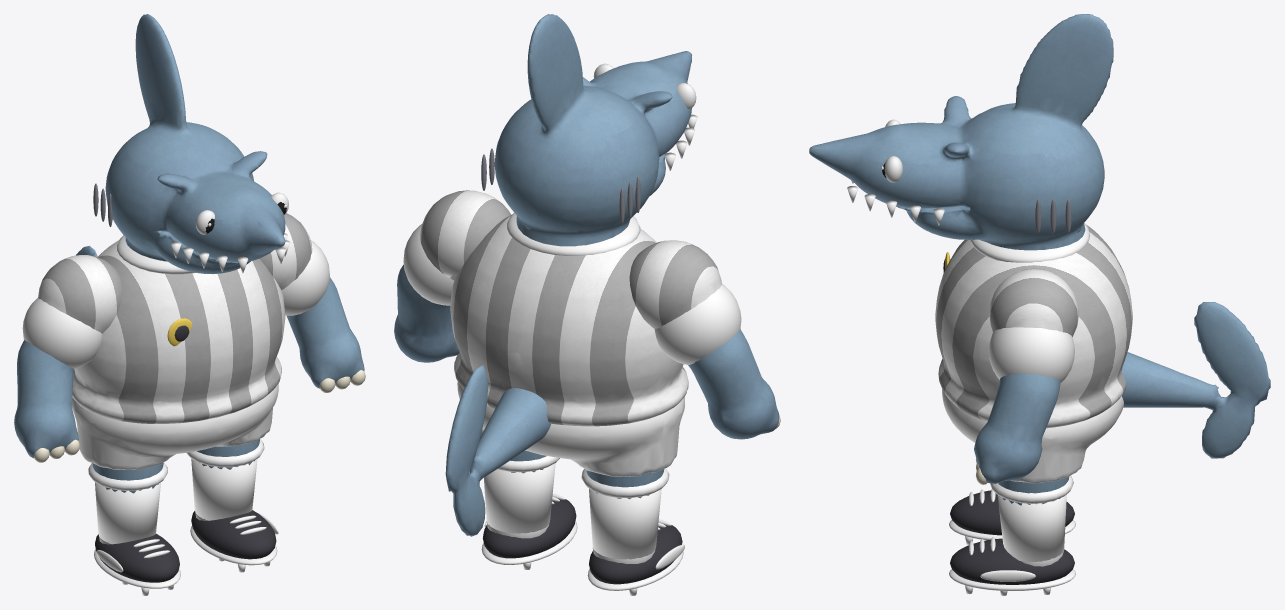
File: char_shark.glb
The picture shows the model from 3 angles, left to right: view 1: azimuth 30°, elevation 25°; view 2: azimuth 150°, elevation 25°; view 3: azimuth 270°, elevation 25°; orthographic projection. The views are drawn at different scales.
Parts seen in each view (by area): view 1: Body.004, Head.004, ArmR.004, ArmL.004, LegR.004, LegL.004; view 2: Body.004, Head.004, ArmR.004, ArmL.004, LegR.004, LegL.004; view 3: Head.004, Body.004, ArmL.004, LegL.004, LegR.004.
Part boxes in pixels (x1,y1,x2,y2): Body.004: (72,235,285,470); Head.004: (93,14,290,274); ArmR.004: (14,255,121,462); ArmL.004: (259,213,365,392); LegR.004: (88,462,180,595); LegL.004: (186,439,278,572); Body.004: (445,212,688,536); Head.004: (481,14,697,246); ArmR.004: (629,240,780,439); ArmL.004: (394,190,511,362); LegR.004: (581,468,684,595); LegL.004: (481,451,577,569); Head.004: (809,14,1113,250); Body.004: (935,222,1270,483); ArmL.004: (974,268,1078,484); LegL.004: (949,475,1075,595); LegR.004: (949,489,1075,544).
Size of the model in its own units: 1.89 by 2.8 by 2.14.
Materials: 12 (2 with a texture image).
